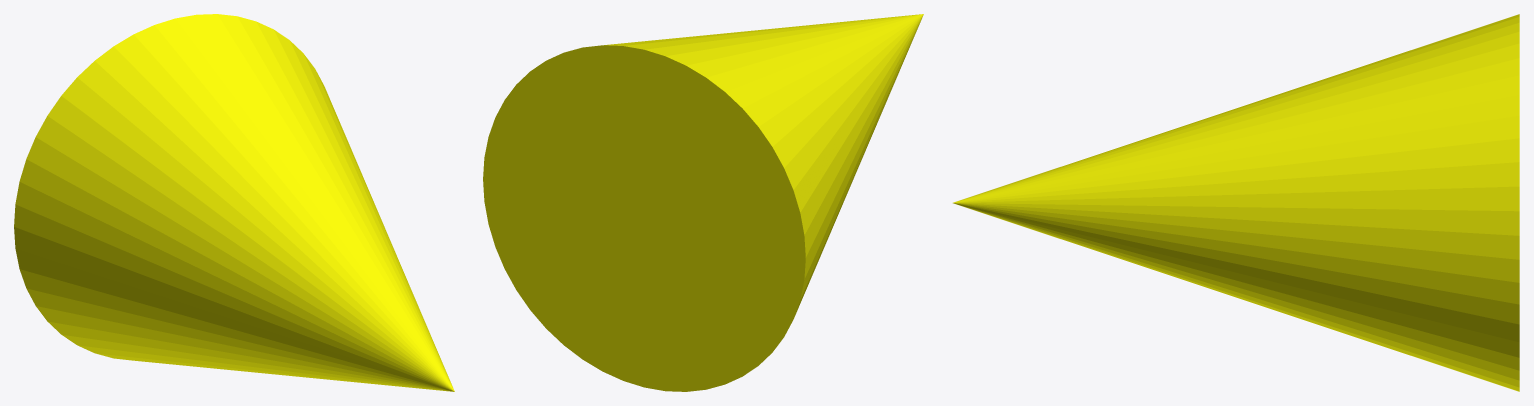
File: cone_yellow.obj
3 views of the same model, side by side, from view 1: azimuth 30°, elevation 25°; view 2: azimuth 150°, elevation 25°; view 3: azimuth 270°, elevation 25° (orthographic).
Parts seen in each view (by area): view 1: obj_0; view 2: obj_0; view 3: obj_0.
Part boxes in pixels (x1=…): obj_0: x1=14, y1=14, x2=454, y2=391; obj_0: x1=483, y1=14, x2=923, y2=391; obj_0: x1=953, y1=14, x2=1519, y2=391.
Size of the model in its own units: 20 by 20 by 30.
